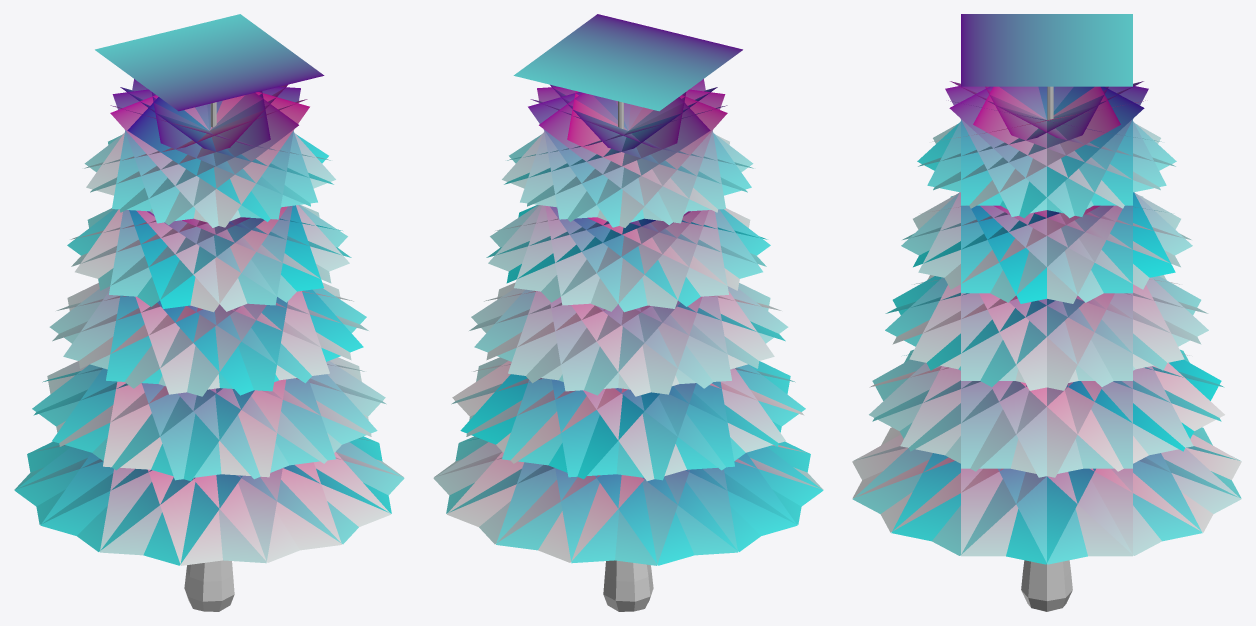
The model's file is tree_pine.glb.
3 renders of one model, left to right at view 1: azimuth 30°, elevation 25°; view 2: azimuth 150°, elevation 25°; view 3: azimuth 270°, elevation 25°, orthographic. The views are drawn at different scales.
Parts seen in each view (by area): view 1: needles, tree_pine; view 2: needles, tree_pine; view 3: needles, tree_pine.
Boxes of the visible parts, left/top/right/bottom form: needles: left=14, top=14, right=404, bottom=565; tree_pine: left=184, top=102, right=234, bottom=611; needles: left=433, top=14, right=823, bottom=565; tree_pine: left=603, top=101, right=653, bottom=611; needles: left=852, top=14, right=1241, bottom=564; tree_pine: left=1021, top=86, right=1072, bottom=611.
Bounding box in the file's own units: 3.48 × 5.37 × 3.4.
